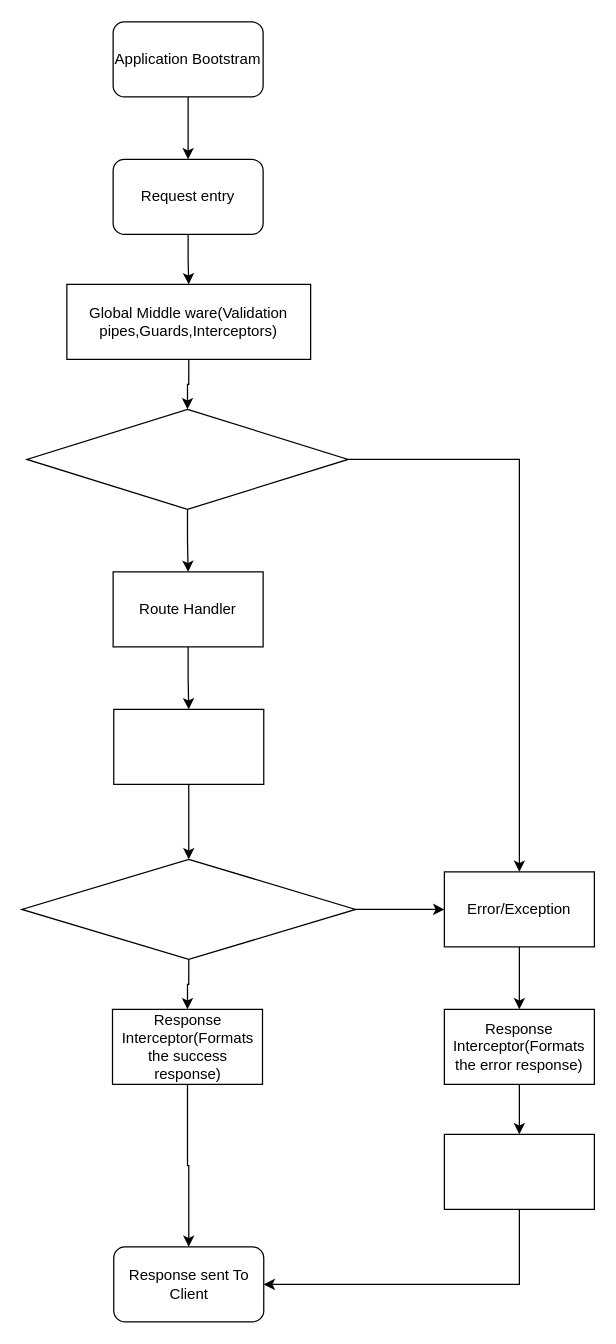
Image size: 616x1344. Some labels were removed from this diagram. The centre of each missing label's shape, as x and y in pixels:
Decision Point(Controller Response): the point at 188,908
Decision Points(Guards,Middlelware): the point at 187,458
Exception filter Validates the error response: the point at 518,1171
Service Layer(Logic and Access to Database): the point at 188,746
